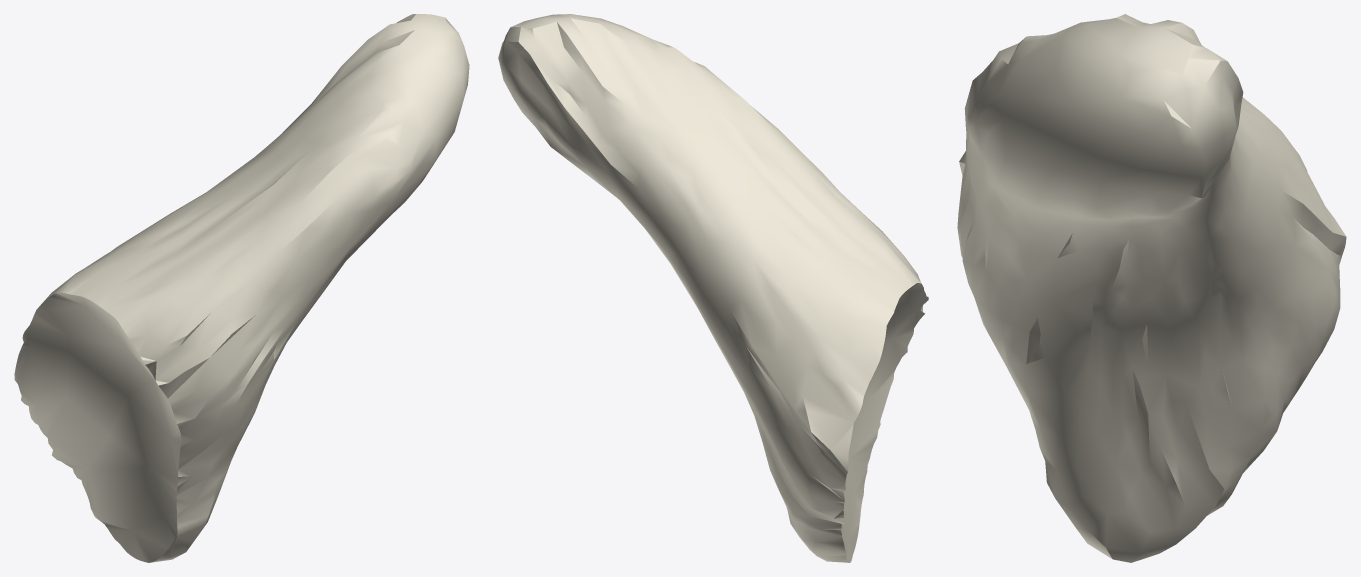
Rendered from fma25017_mm1516.glb.
The picture shows the model from 3 angles, left to right: view 1: azimuth 30°, elevation 25°; view 2: azimuth 150°, elevation 25°; view 3: azimuth 270°, elevation 25°; orthographic projection. The views are drawn at different scales.
Visible parts, largest first — view 1: FMA25017_MM1516; view 2: FMA25017_MM1516; view 3: FMA25017_MM1516.
Boxes of the visible parts, left/top/right/bottom form: FMA25017_MM1516: left=14, top=14, right=469, bottom=562; FMA25017_MM1516: left=498, top=14, right=928, bottom=562; FMA25017_MM1516: left=957, top=14, right=1346, bottom=562.
Bounding box in the file's own units: 0.0138 × 0.0156 × 0.00753.
